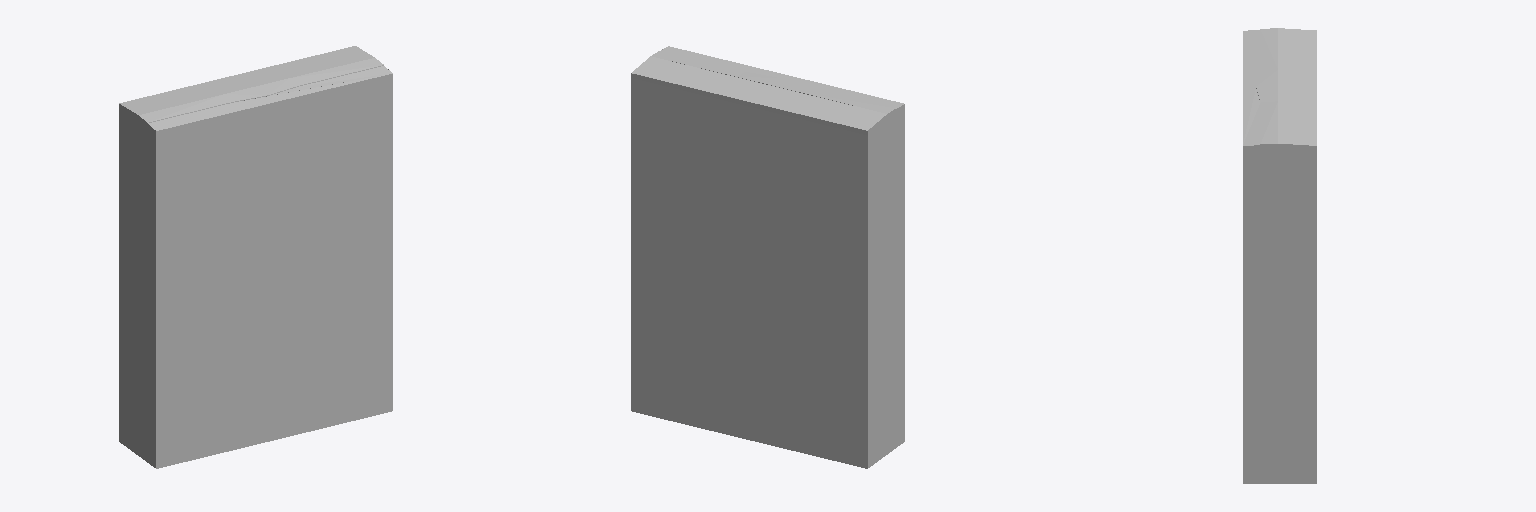
Rendered from CerealModel.obj.
The picture shows the model from 3 angles: view 1: azimuth 30°, elevation 25°; view 2: azimuth 150°, elevation 25°; view 3: azimuth 270°, elevation 25°; orthographic projection.
Parts seen in each view (by area): view 1: Mr_SaturnRings; view 2: Mr_SaturnRings; view 3: Mr_SaturnRings.
Part boxes in pixels (bbox=[...]): Mr_SaturnRings: bbox=[119, 46, 392, 468]; Mr_SaturnRings: bbox=[631, 46, 904, 468]; Mr_SaturnRings: bbox=[1243, 28, 1316, 483].
Size of the model in its own units: 16.91 by 23.29 by 4.64.